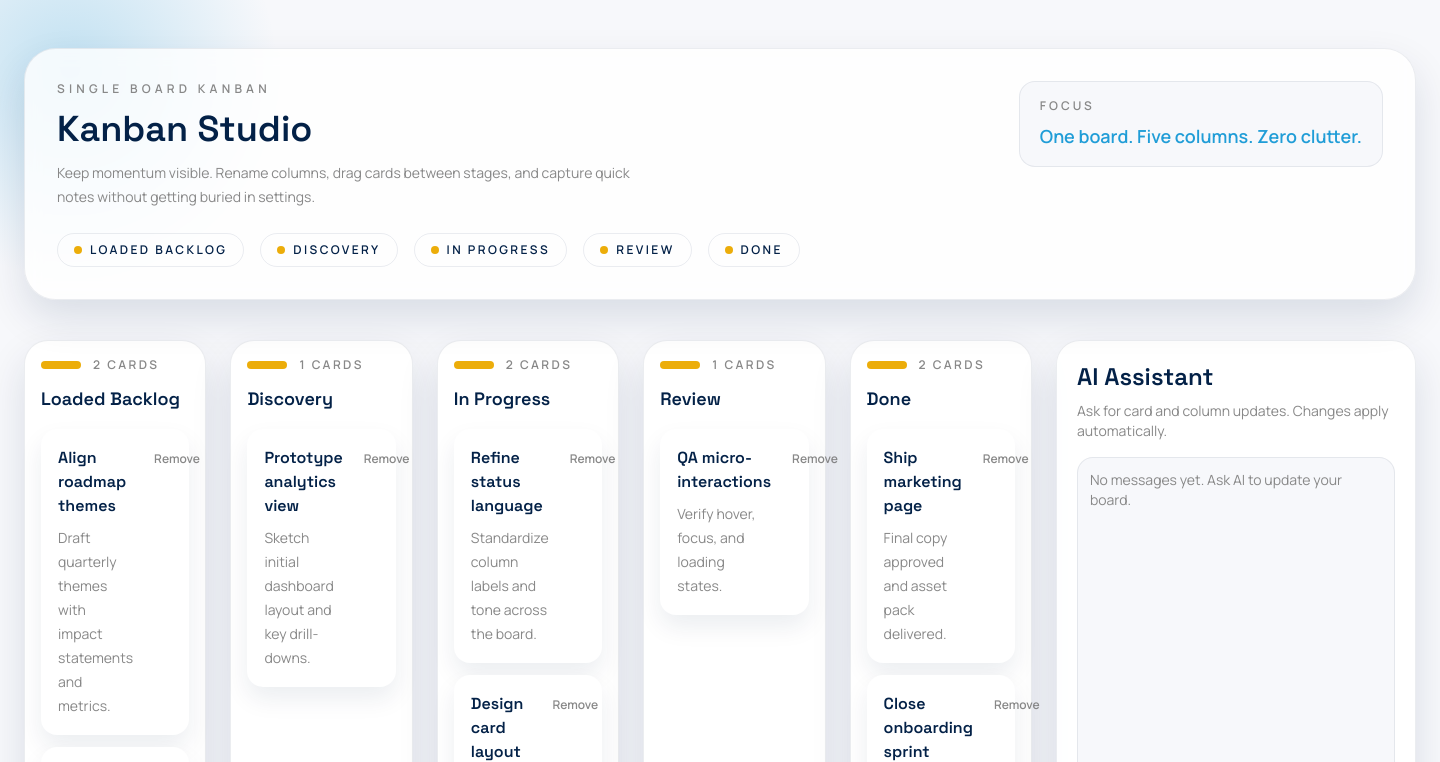
Test: KanbanBoard › shows an error when saving board data fails
Replace the text in the 1st field named "Column title" with "New Name": [115, 399] box [41, 385, 189, 413]
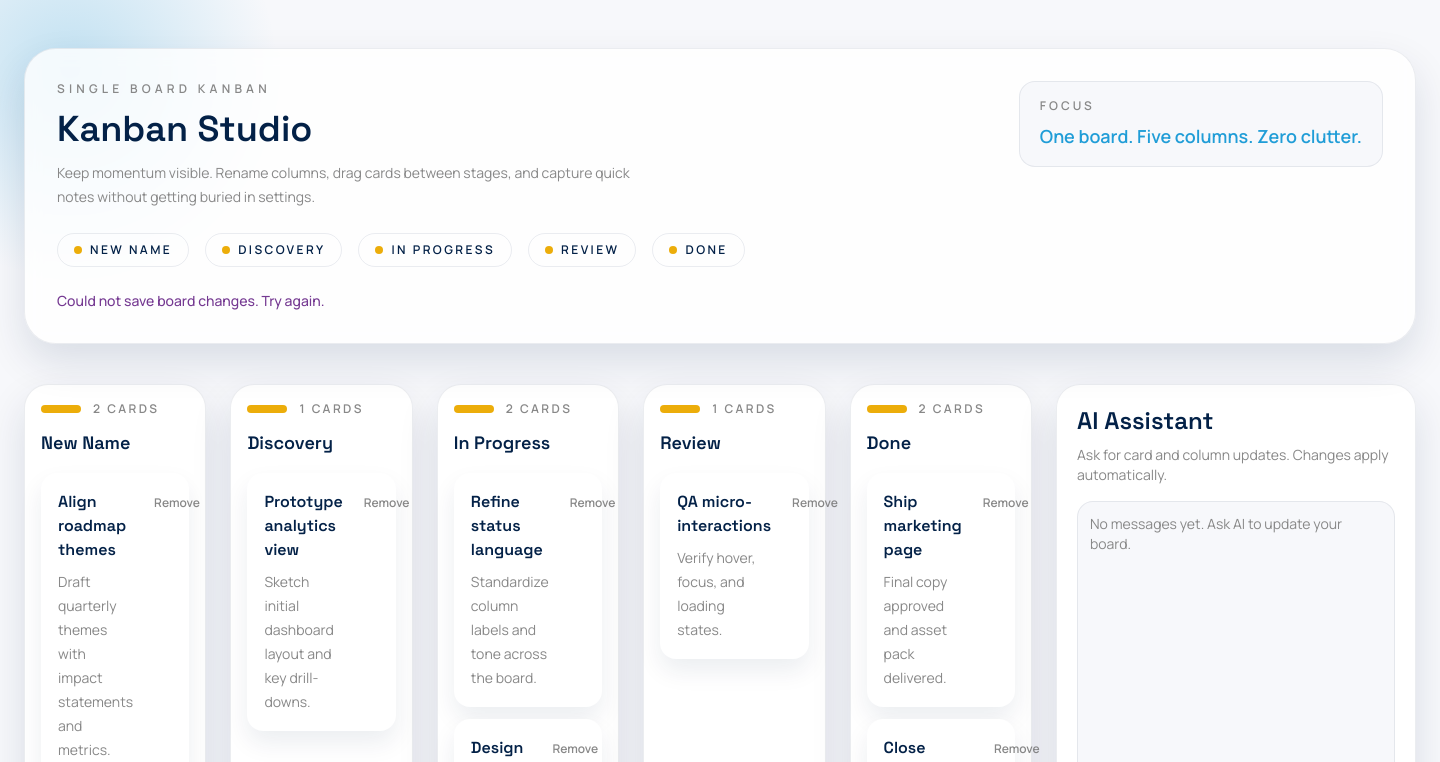
Check: the text "Could not save board changes. Try again." is shown, box [57, 291, 324, 310]
